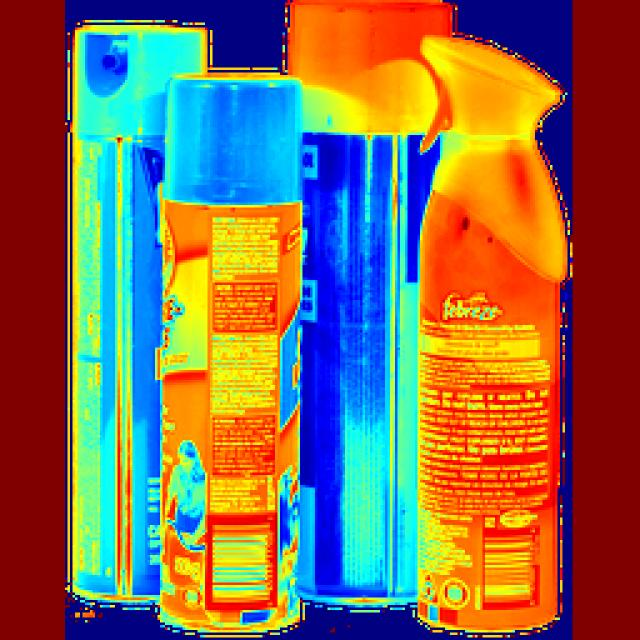Aerosol Cans: (403, 42, 583, 630), (66, 20, 216, 604), (159, 65, 308, 630)
